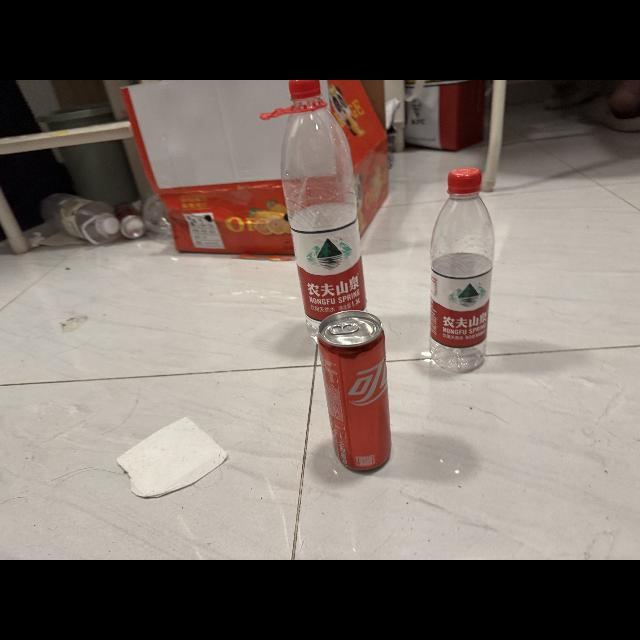Cola: (313, 308, 402, 478)
